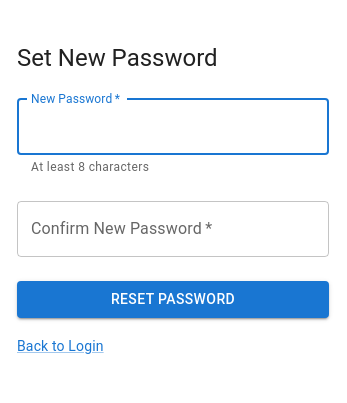
Test case: ResetPasswordPage › shows error on API failure
In the password field labelled "New Password *": {"x": 173, "y": 126} top-left (17, 98), bottom-right (329, 154), type "newpassword123"
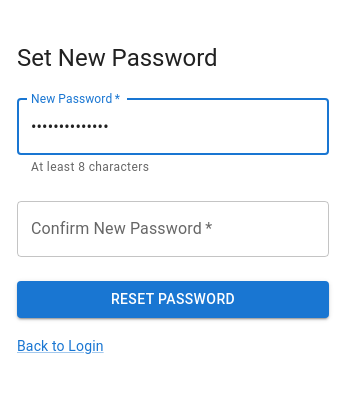
In the password field labelled "Confirm New Password *": {"x": 173, "y": 229} top-left (17, 201), bottom-right (329, 257), type "newpassword123"
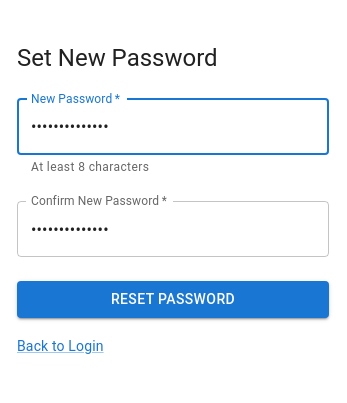
Click the button "Reset Password": {"x": 173, "y": 300} top-left (17, 281), bottom-right (329, 318)
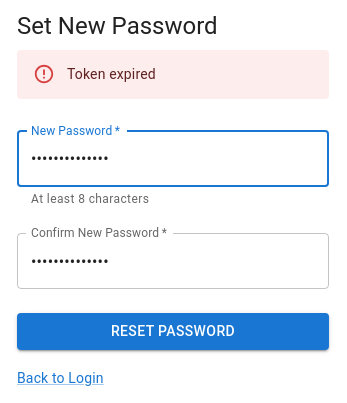
Expected: the text "Token expired" is shown, top-left (67, 66), bottom-right (156, 82)
